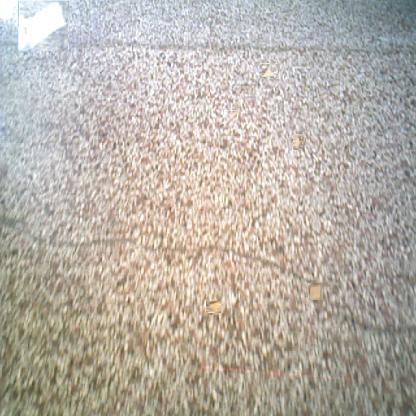dirty: (19, 0, 68, 51), (260, 62, 278, 78), (308, 284, 322, 302), (224, 110, 237, 127), (206, 300, 220, 314), (291, 135, 303, 149)
